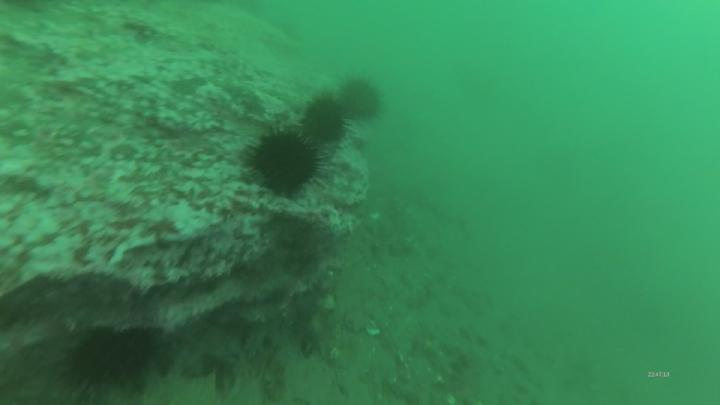echinus: (54, 328, 155, 400), (244, 120, 327, 202), (297, 91, 356, 151), (332, 69, 389, 128)
